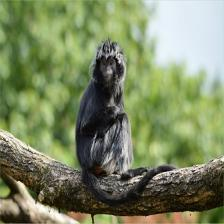monkey: (76, 26, 144, 208)
